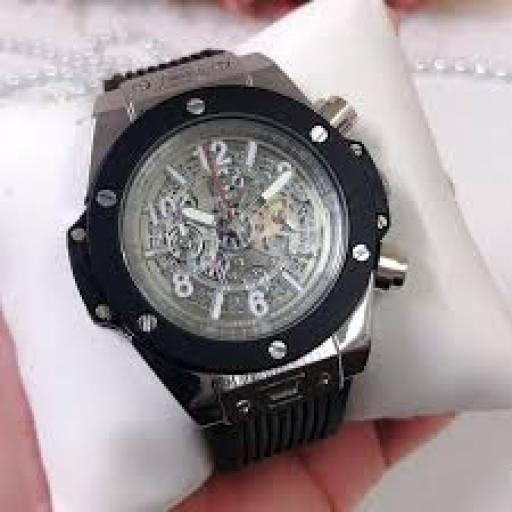KolSaati: (62, 44, 414, 470)
